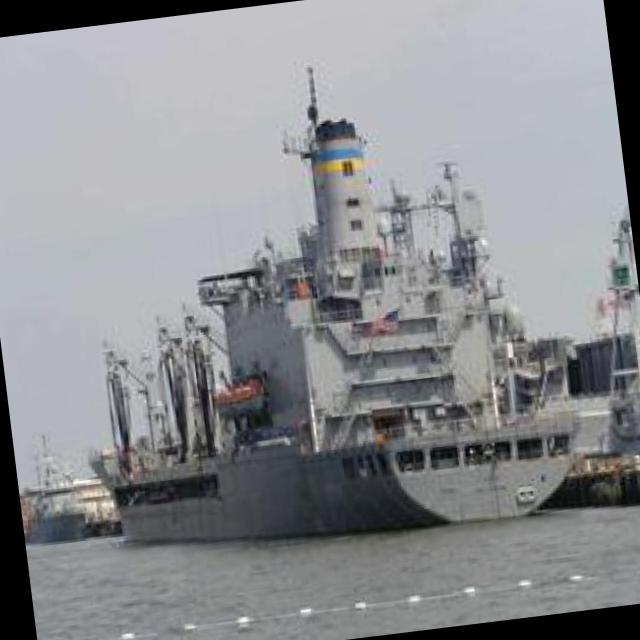boat: (30, 107, 592, 568)
